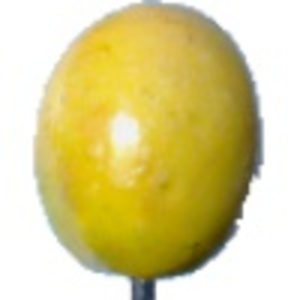maracujá: (32, 1, 265, 300)
